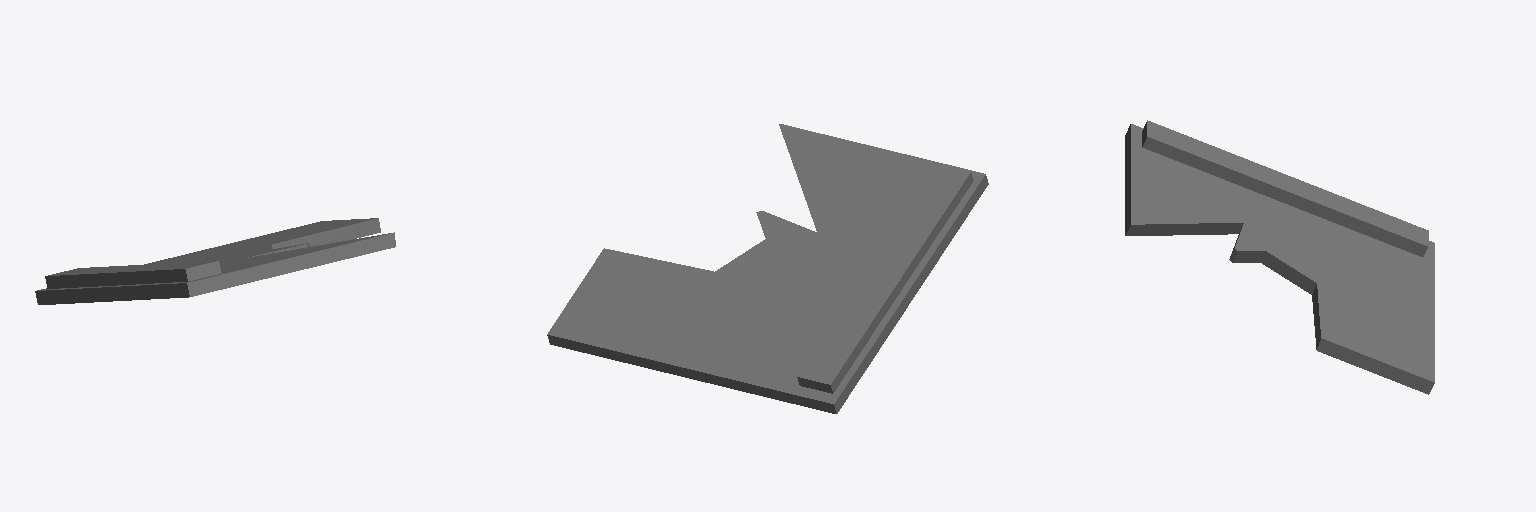
The model's file is debris2.obj.
3 renders of one model, left to right at view 1: azimuth 30°, elevation 25°; view 2: azimuth 150°, elevation 25°; view 3: azimuth 270°, elevation 25°, orthographic.
Parts seen in each view (by area): view 1: Debris_2; view 2: Debris_2; view 3: Debris_2.
Part boxes in pixels (x1,y1,x2,y2): Debris_2: (35, 218, 395, 304); Debris_2: (547, 124, 988, 413); Debris_2: (1125, 120, 1434, 394).
Size of the model in its own units: 0.027 by 0.0124 by 0.0253.